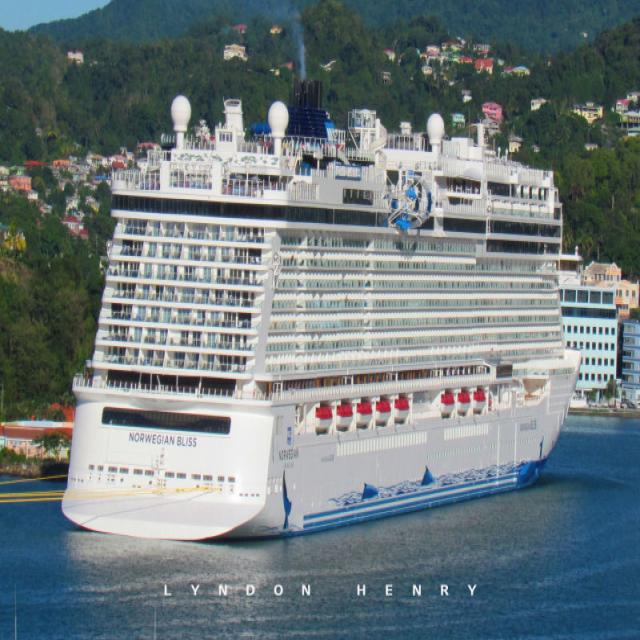cruises: (59, 86, 586, 551)
